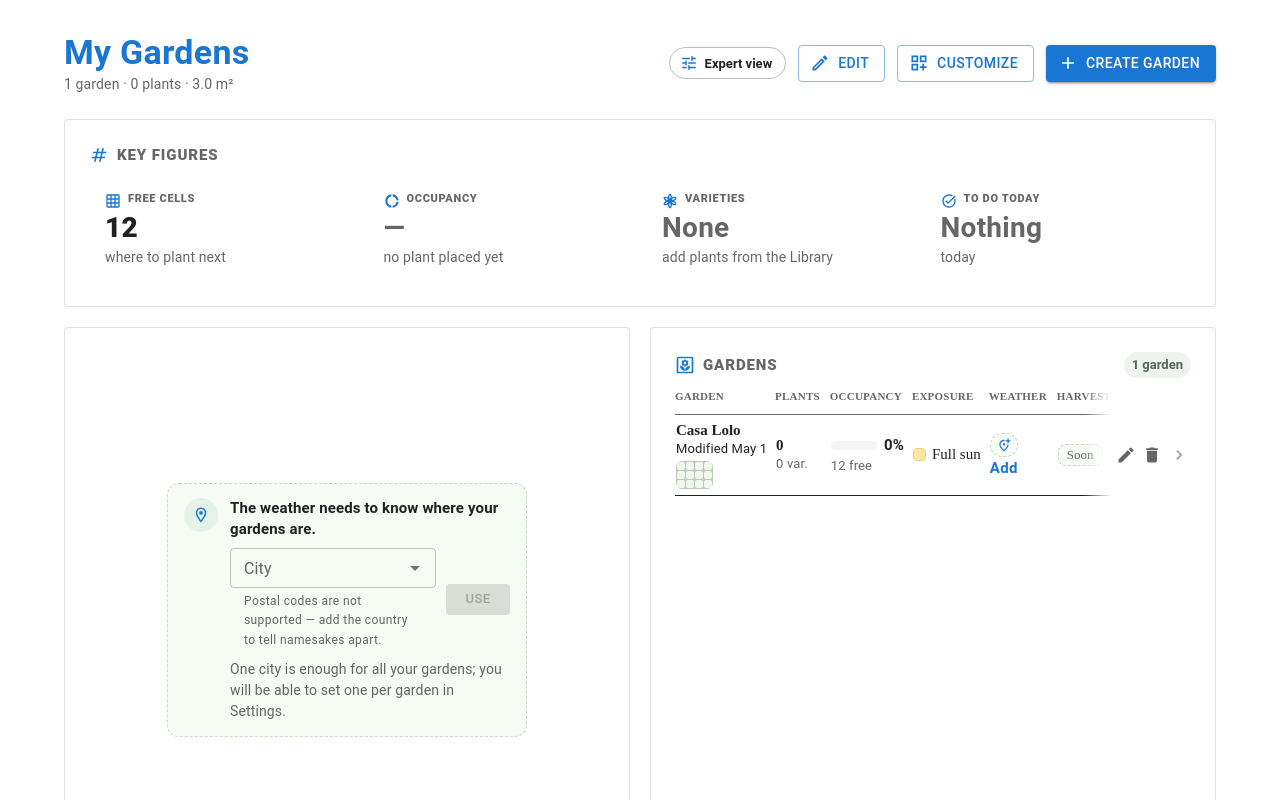
it: GardensDashboard — grid from the stored preferences (SMA-336) › gives the band three Edit-mode controls — hide, move, options — and NO corner grip: it has one size (C28)
The width and height of the screenshot is (1280, 800).
# « Edit » is drawn, DISABLED, while the layout loads: a click then is lost.
What coordinates should you click on to do the following:
click the button "Edit"
I would click on:
 (842, 63)
Its box is [798,45,885,82].
(page scrolled)
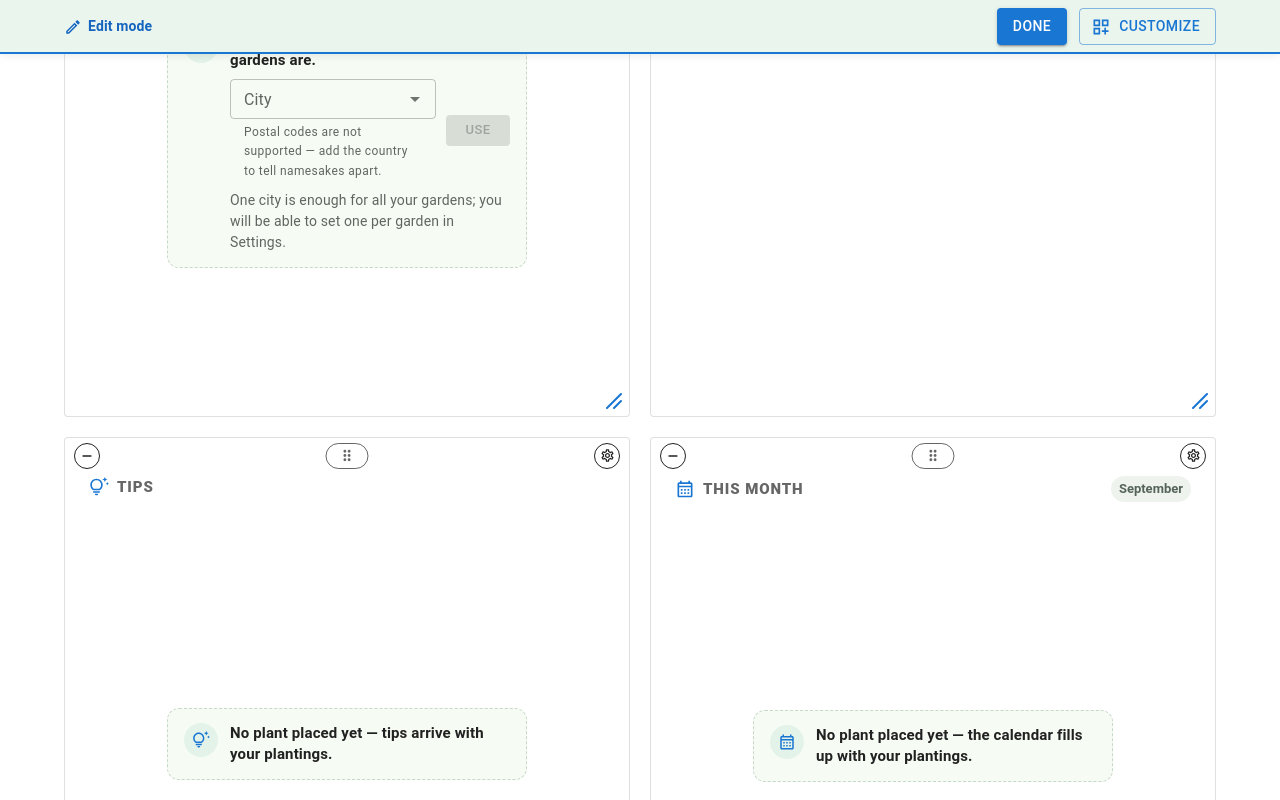
Result: the button named "Change the size of Weather" is shown at [601,388,627,414]
